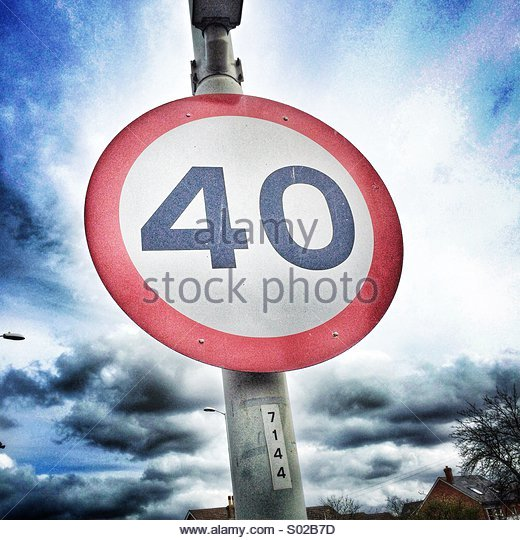Speed_limit_40km: (85, 93, 404, 366)
